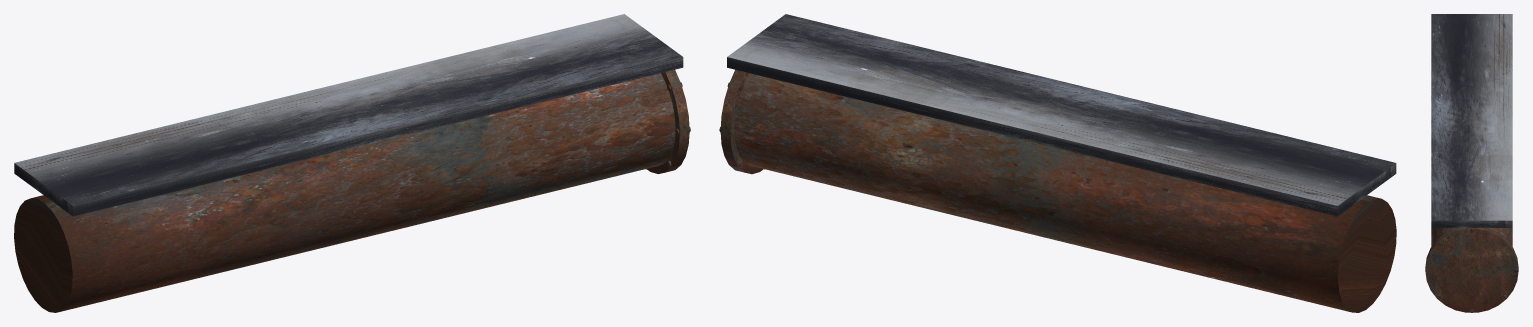
Rendered from pipe_walk.FBX.
The picture shows the model from 3 angles, left to right: view 1: azimuth 30°, elevation 25°; view 2: azimuth 150°, elevation 25°; view 3: azimuth 270°, elevation 25°; orthographic projection. The views are drawn at different scales.
Parts seen in each view (by area): view 1: Cylinder023, Box001, Cylinder021; view 2: Cylinder023, Box001, Cylinder021; view 3: Box001, Cylinder021, Cylinder023.
Part boxes in pixels (box(x1,y1,x2,y2)): Cylinder023: box(14, 73, 675, 312); Box001: box(14, 14, 683, 216); Cylinder021: box(647, 69, 689, 173); Cylinder023: box(734, 73, 1396, 312); Box001: box(727, 14, 1396, 216); Cylinder021: box(720, 69, 762, 174); Box001: box(1431, 14, 1512, 227); Cylinder021: box(1425, 228, 1518, 312); Cylinder023: box(1431, 228, 1512, 246).
Bounding box in the file's own units: 30.17 × 6.18 × 5.72.
Materials: 1 (1 with a texture image).
